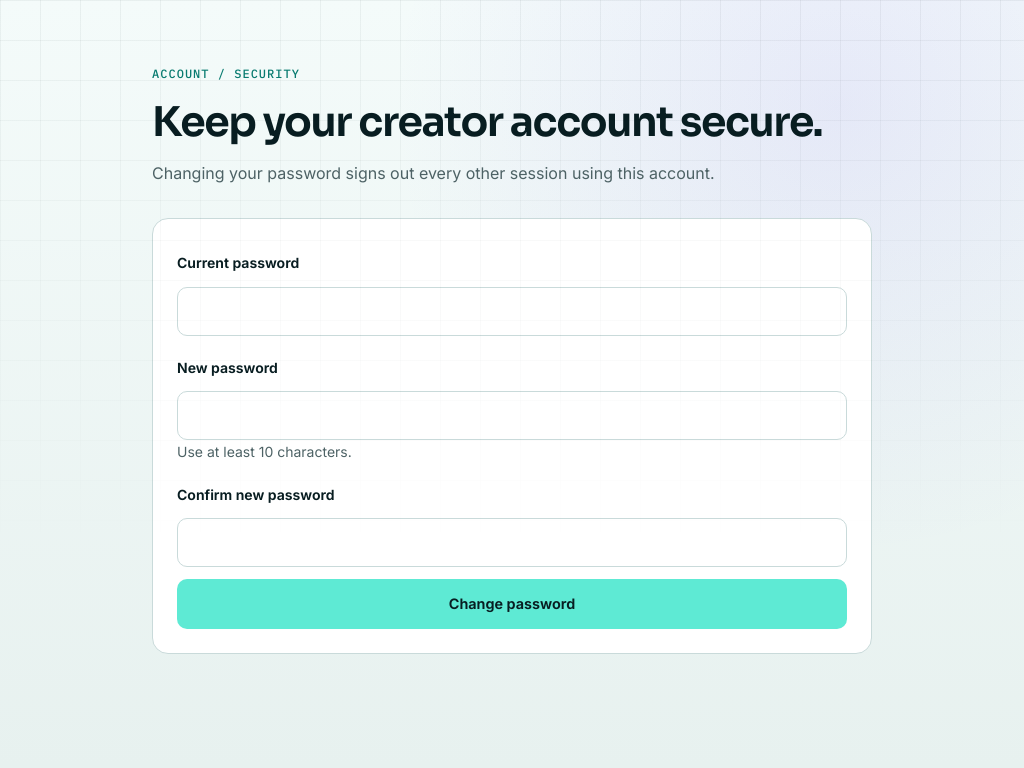
Test: AccountSecurityPage › requires the current password and confirms other sessions are revoked
This screenshot has width=1024, height=768.
Type "old-password" into the password field labelled "Current password".
click(512, 311); type("old-password")  # box x1=177 y1=286 x2=847 y2=336
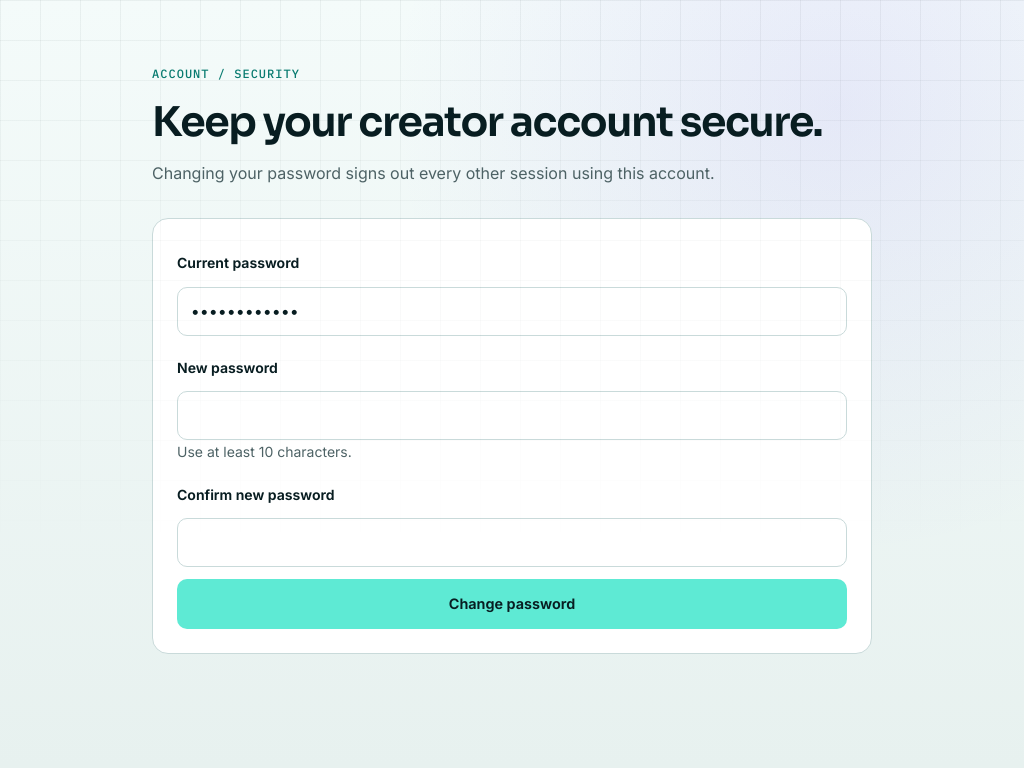
Type "long-password" into the password field labelled "New password".
click(512, 415); type("long-password")  # box x1=177 y1=391 x2=847 y2=440
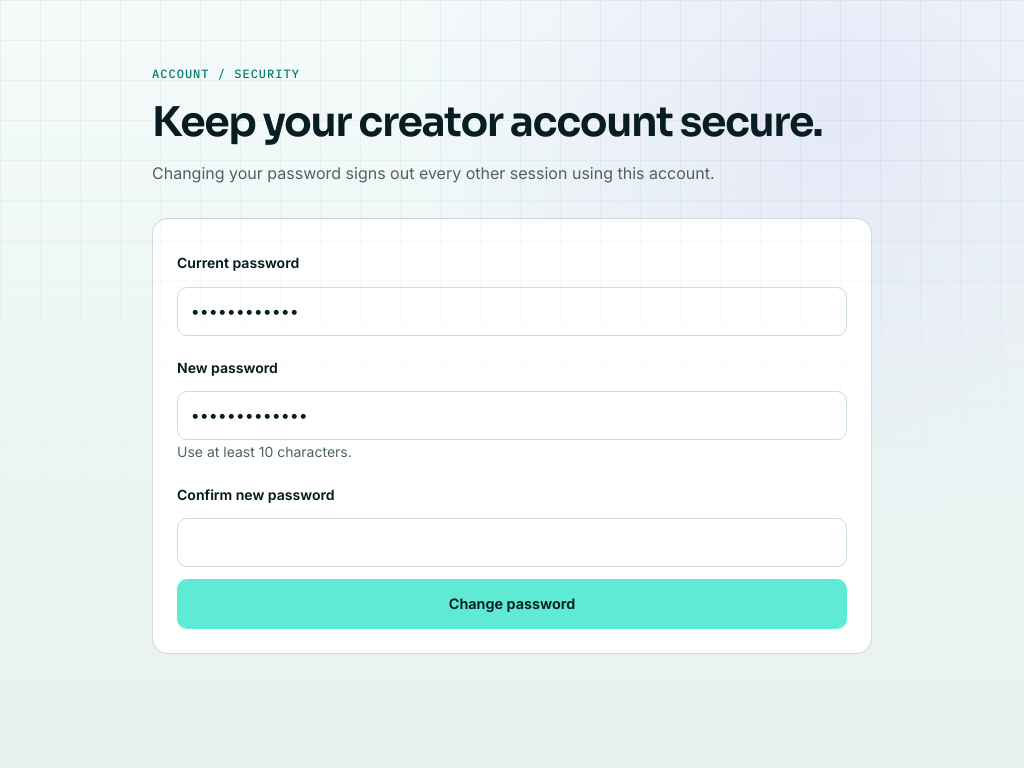
Type "long-password" into the password field labelled "Confirm new password".
click(512, 543); type("long-password")  # box x1=177 y1=518 x2=847 y2=567
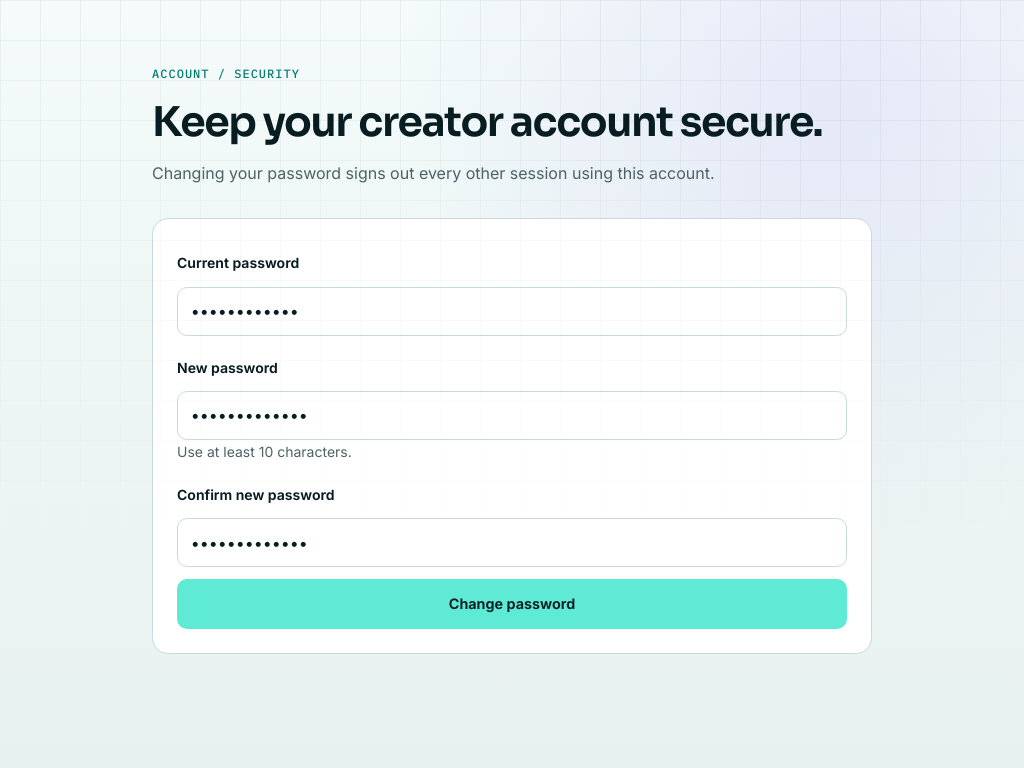
Click the button "Change password".
click(512, 604)  # box x1=177 y1=579 x2=847 y2=629
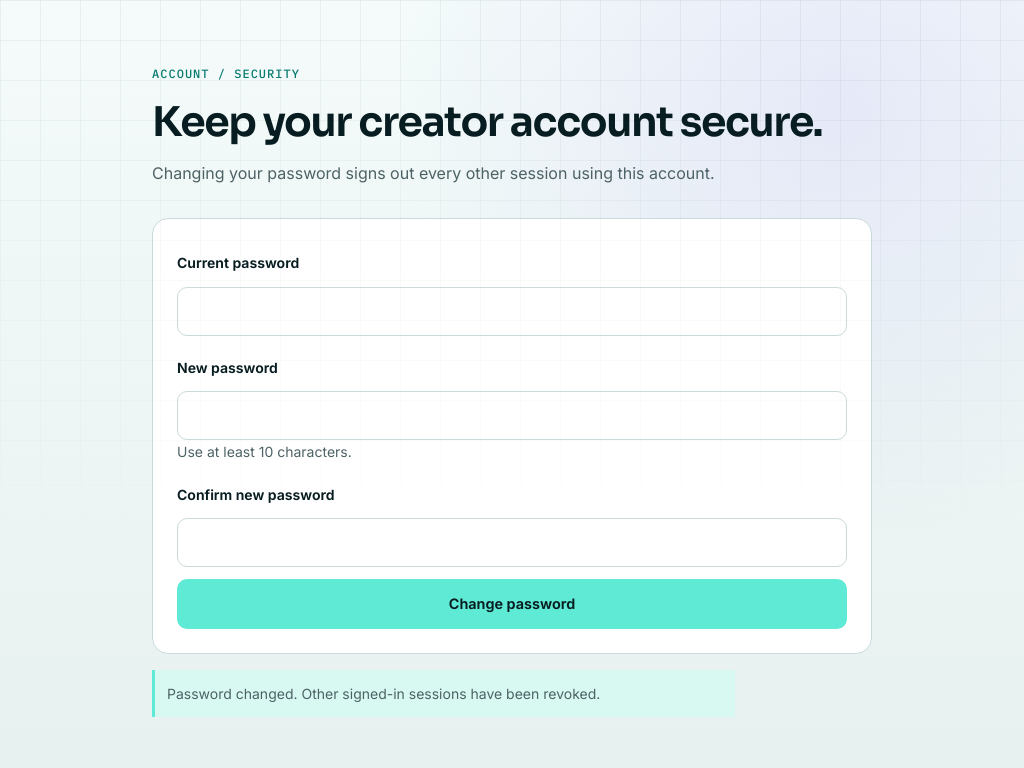
Expected: the message shows "Other signed-in sessions have been revoked", x1=167 y1=685 x2=600 y2=702
